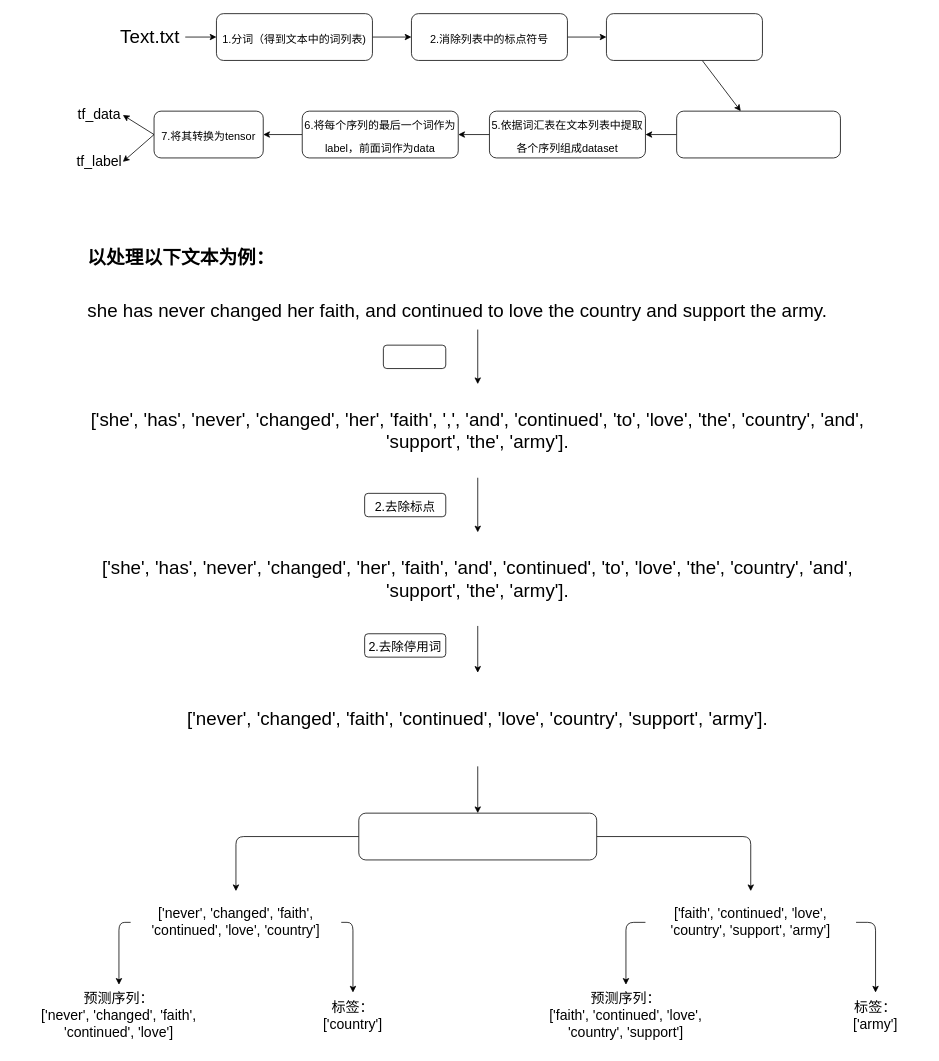
Some shapes in this 939 by 1061 pixel diagram are drawn without their labels. The shapes that lost their labels are listed below. From the top down, each one's centre as x and y in pixels, then its label:
(x=684, y=36): 3.消除列表中的英文停用词 (例如 the, a , an)
(x=758, y=134): 4.提取出现频率最高的前n个词组成词汇表，用"UNK"替换其他词
(x=414, y=356): 1.分词
(x=477, y=836): 假设"country"和"army"都在词汇表中，且设定的序列长度为5，则由该句子可提取两个序列：
